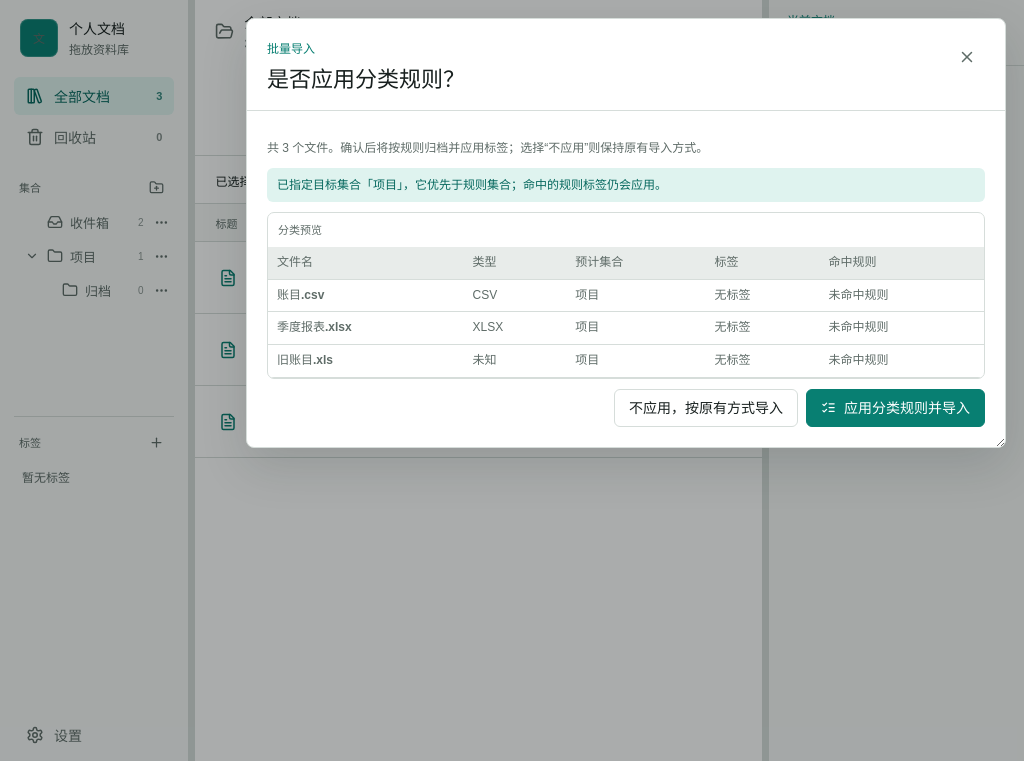
Test case: 资料库拖放 › recognizes dropped csv and xlsx files and rejects a legacy xls in the same batch
This screenshot has width=1024, height=761.
Expected: the text "第一份文档" is shown, [248,260,318,276]
Click the button "不应用，按原有方式导入": x=706, y=408 [614,389,798,427]
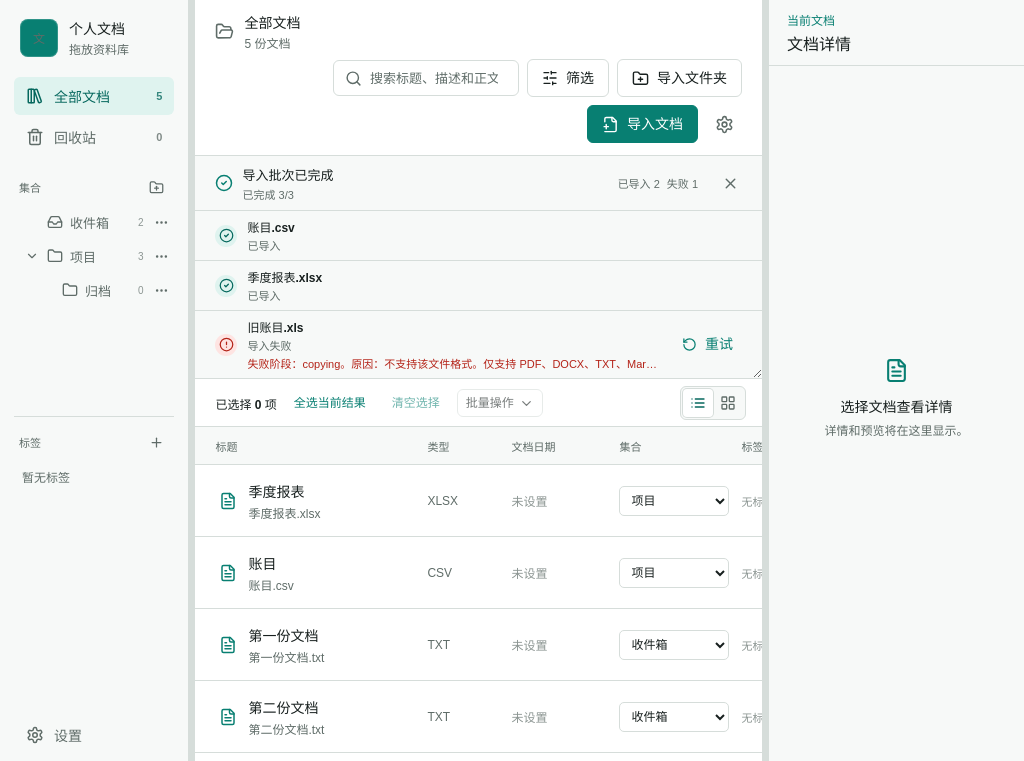
Expected: the row named "选择文档 账目" shows "csv", [427,566,452,580]
Expected: the row named "选择文档 季度报表" shows "xlsx", [427,494,458,508]
Expected: the element named "批量导入进度" shows "已导入 2", [195,156,762,379]
